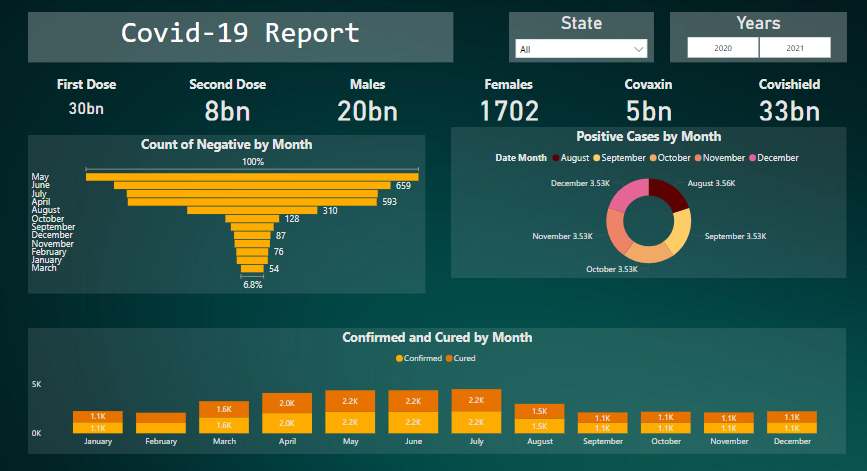

This screenshot's page, from the dashboard's own definition file:
{"tool":"powerbi","page":{"name":"Covid_19 Report","canvas":[1280,720],"ordinal":0},"visuals":[{"type":"columnChart","title":"Confirmed and Cured by Month","fields":{"Y":["CountNonNull(covid_19_india.Confirmed)","CountNonNull(covid_19_india.Cured)"],"Category":["covid_19_india.Date.Variation.Date Hierarchy.Month"]},"box":[42.8,484.7,1202.3,184.8],"z":0},{"type":"slicer","title":"Years","fields":{"Values":["covid_19_india.Date.Variation.Date Hierarchy.Year"]},"box":[986,20.2,260.4,73.9],"z":1000},{"type":"slicer","title":"State","fields":{"Values":["covid_19_india.State/UnionTerritory"]},"box":[749.2,20.2,213.3,73.9],"z":2000},{"type":"card","title":"First Dose","fields":{"Values":["Sum(covid_vaccine_statewise.First Dose Administered)"]},"box":[42.8,112.5,171.4,72.3],"z":3000},{"type":"card","title":"Second Dose","fields":{"Values":["Sum(covid_vaccine_statewise.Second Dose Administered)"]},"box":[250.6,112.5,168.7,72.3],"z":4000},{"type":"card","title":"Males","fields":{"Values":["Sum(covid_vaccine_statewise.Male (Doses Administered))"]},"box":[455.8,112.5,171.4,72.3],"z":5000},{"type":"card","title":"Females","fields":{"Values":["CountNonNull(covid_vaccine_statewise.Female (Doses Administered))"]},"box":[663.6,112.5,168.7,72.3],"z":6000},{"type":"card","title":"Covaxin","fields":{"Values":["Sum(covid_vaccine_statewise. Covaxin (Doses Administered))"]},"box":[868.7,112.5,171.4,72.3],"z":7000},{"type":"card","title":"Covishield","fields":{"Values":["Sum(covid_vaccine_statewise.CoviShield (Doses Administered))"]},"box":[1076.5,112.5,168.7,72.3],"z":8000},{"type":"textbox","title":"Covid-19 Report","box":[42,20.2,624.9,73.9],"z":10000},{"type":"donutChart","title":"Positive Cases by Month","fields":{"Category":["covid_19_india.Date.Variation.Date Hierarchy.Month"],"Y":["CountNonNull(StatewiseTestingDetails.Positive)"]},"box":[664.1,190.1,581.1,222.3],"z":11000},{"type":"funnel","fields":{"Category":["StatewiseTestingDetails.Date.Variation.Date Hierarchy.Month"],"Y":["CountNonNull(StatewiseTestingDetails.Negative)"]},"box":[42.8,200.8,583.8,233],"z":12000}]}

Visuals, with their boxes on the page's 1280x720 design canvas (x1, y1, x2, y2). These are canvas units, not pixel positions in the 867x471 screenshot, which may show the page scaled, cropped or inside an application window:
"Confirmed and Cured by Month" columnChart: <bbox>43, 485, 1245, 670</bbox>
"Years" slicer: <bbox>986, 20, 1246, 94</bbox>
"State" slicer: <bbox>749, 20, 962, 94</bbox>
"First Dose" card: <bbox>43, 112, 214, 185</bbox>
"Second Dose" card: <bbox>251, 112, 419, 185</bbox>
"Males" card: <bbox>456, 112, 627, 185</bbox>
"Females" card: <bbox>664, 112, 832, 185</bbox>
"Covaxin" card: <bbox>869, 112, 1040, 185</bbox>
"Covishield" card: <bbox>1076, 112, 1245, 185</bbox>
"Covid-19 Report" textbox: <bbox>42, 20, 667, 94</bbox>
"Positive Cases by Month" donutChart: <bbox>664, 190, 1245, 412</bbox>
funnel - StatewiseTestingDetails.Date.Variation.Date Hierarchy.Month x CountNonNull(StatewiseTestingDetails.Negative): <bbox>43, 201, 627, 434</bbox>
